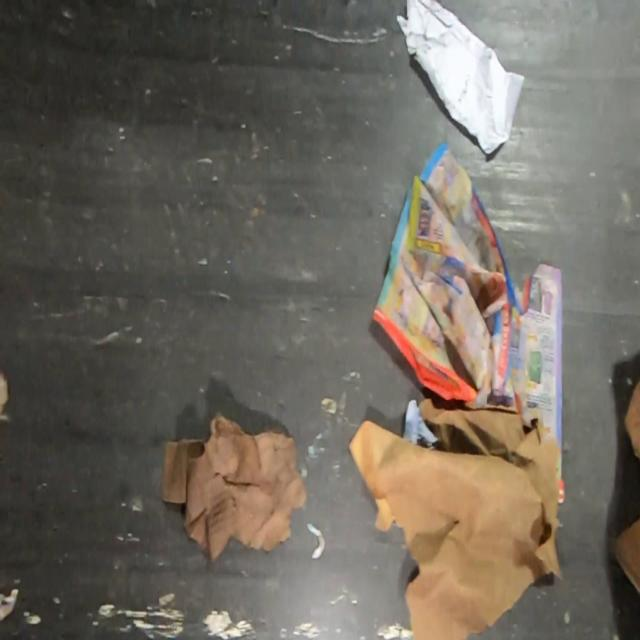cardboard: (612, 513, 639, 597), (622, 377, 640, 460)
